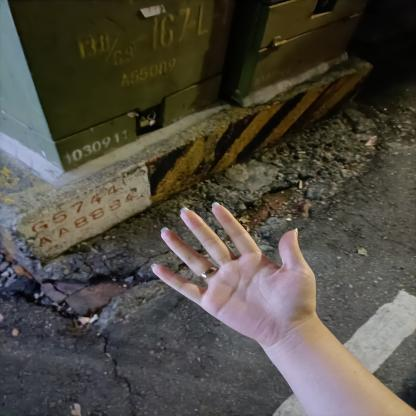bare_hand: (147, 194, 328, 348)
